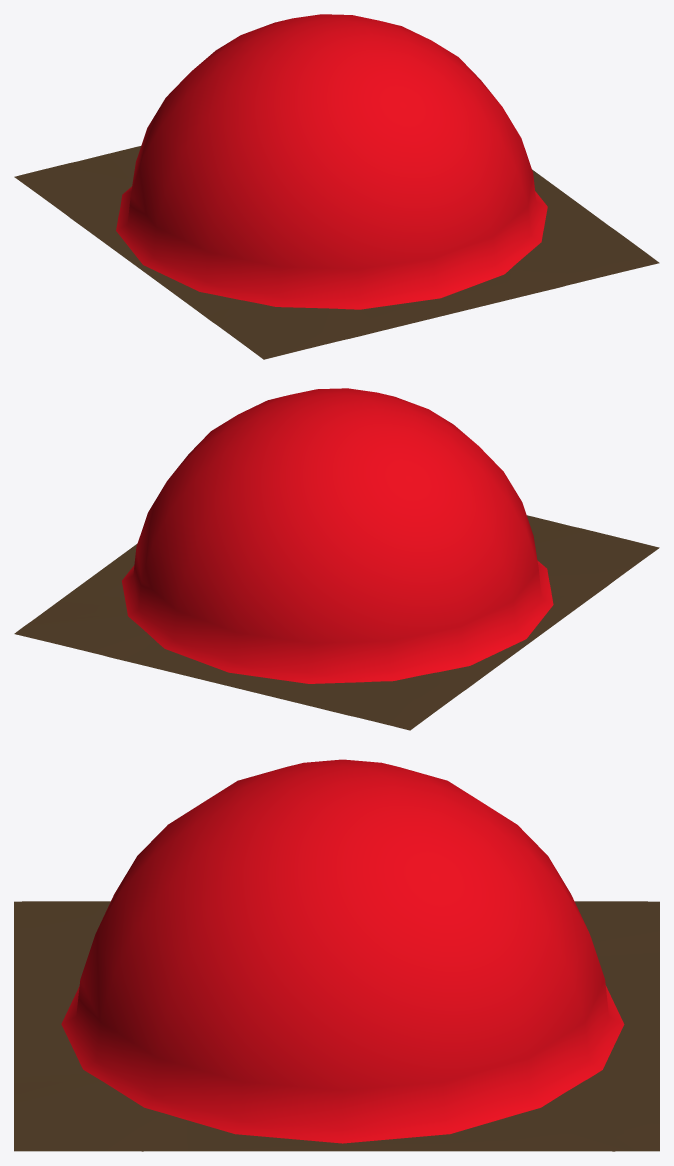
Rendered from earth2.fbx.
3 views of the same model, one above another, from view 1: azimuth 30°, elevation 25°; view 2: azimuth 150°, elevation 25°; view 3: azimuth 270°, elevation 25° (orthographic). The views are drawn at different scales.
Parts seen in each view (by area): view 1: Sphere.001, Plane.001; view 2: Sphere.001, Plane.001; view 3: Sphere.001, Plane.001.
Part boxes in pixels (x1=…): Sphere.001: x1=116, y1=14, x2=547, y2=309; Plane.001: x1=14, y1=146, x2=659, y2=359; Sphere.001: x1=122, y1=388, x2=553, y2=683; Plane.001: x1=14, y1=515, x2=659, y2=730; Sphere.001: x1=61, y1=759, x2=624, y2=1143; Plane.001: x1=14, y1=901, x2=659, y2=1151.
Bounding box in the file's own units: 69438 × 33056 × 75847.
